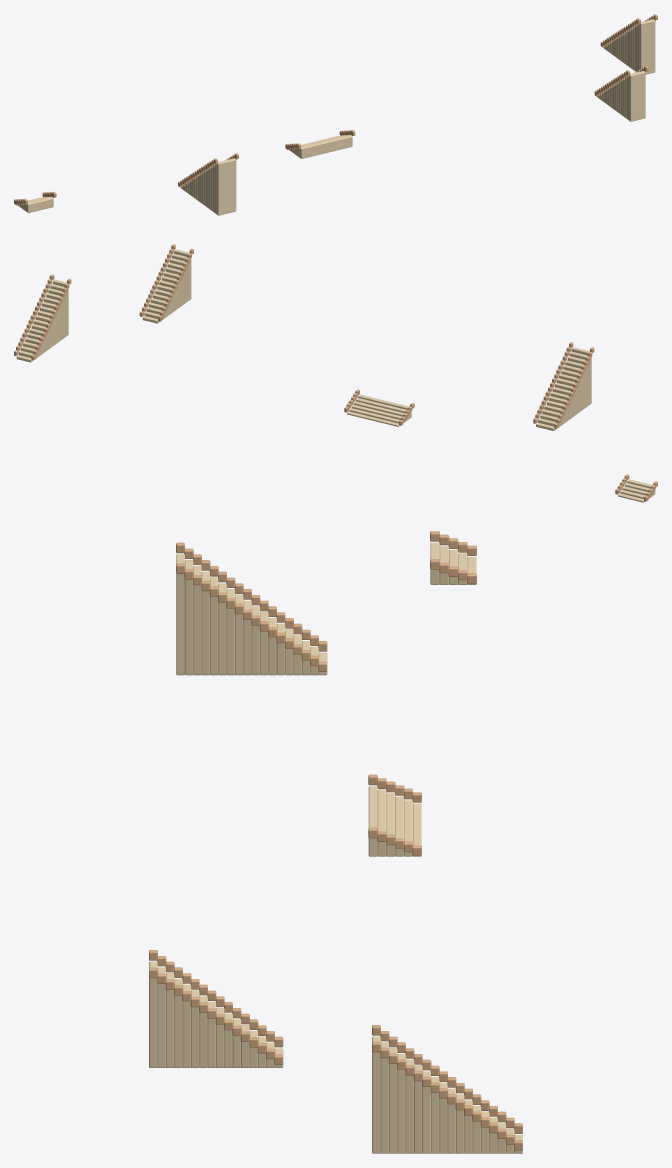
The model's file is SM_ExteriorStairsAndRoutes.fbx.
3 renders of one model, top to bottom at view 1: azimuth 30°, elevation 25°; view 2: azimuth 150°, elevation 25°; view 3: azimuth 270°, elevation 25°, orthographic. The views are drawn at different scales.
Visible parts, largest first — view 1: SM_ExteriorStairsAndRoutes_Export; view 2: SM_ExteriorStairsAndRoutes_Export; view 3: SM_ExteriorStairsAndRoutes_Export.
Part boxes in pixels (box(x1,y1,x2,y2)): SM_ExteriorStairsAndRoutes_Export: box(14, 14, 657, 215); SM_ExteriorStairsAndRoutes_Export: box(14, 244, 657, 502); SM_ExteriorStairsAndRoutes_Export: box(149, 531, 522, 1153).
Size of the model in its own units: 6488 by 1701 by 696.
